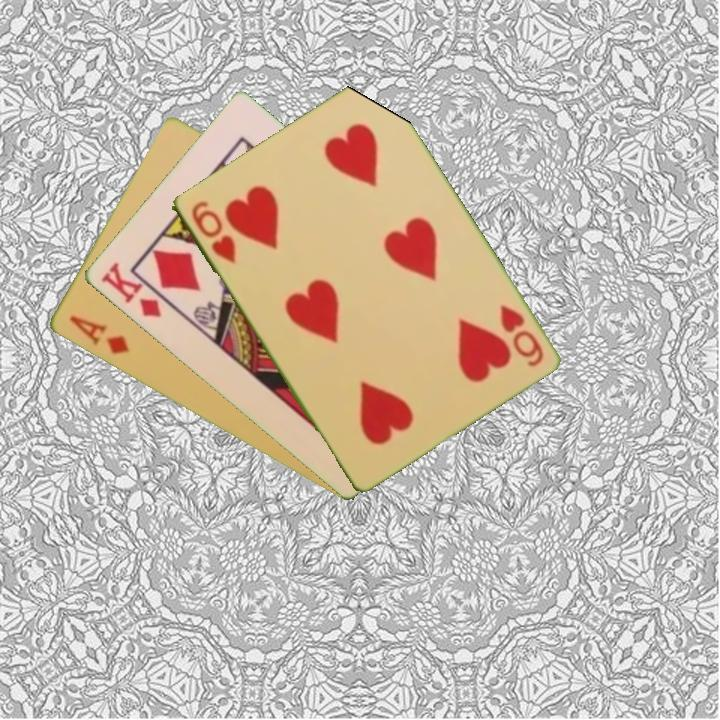6h: (187, 196, 239, 267), (495, 301, 547, 370)
Ad: (65, 312, 132, 358)
Kd: (96, 258, 164, 321)
